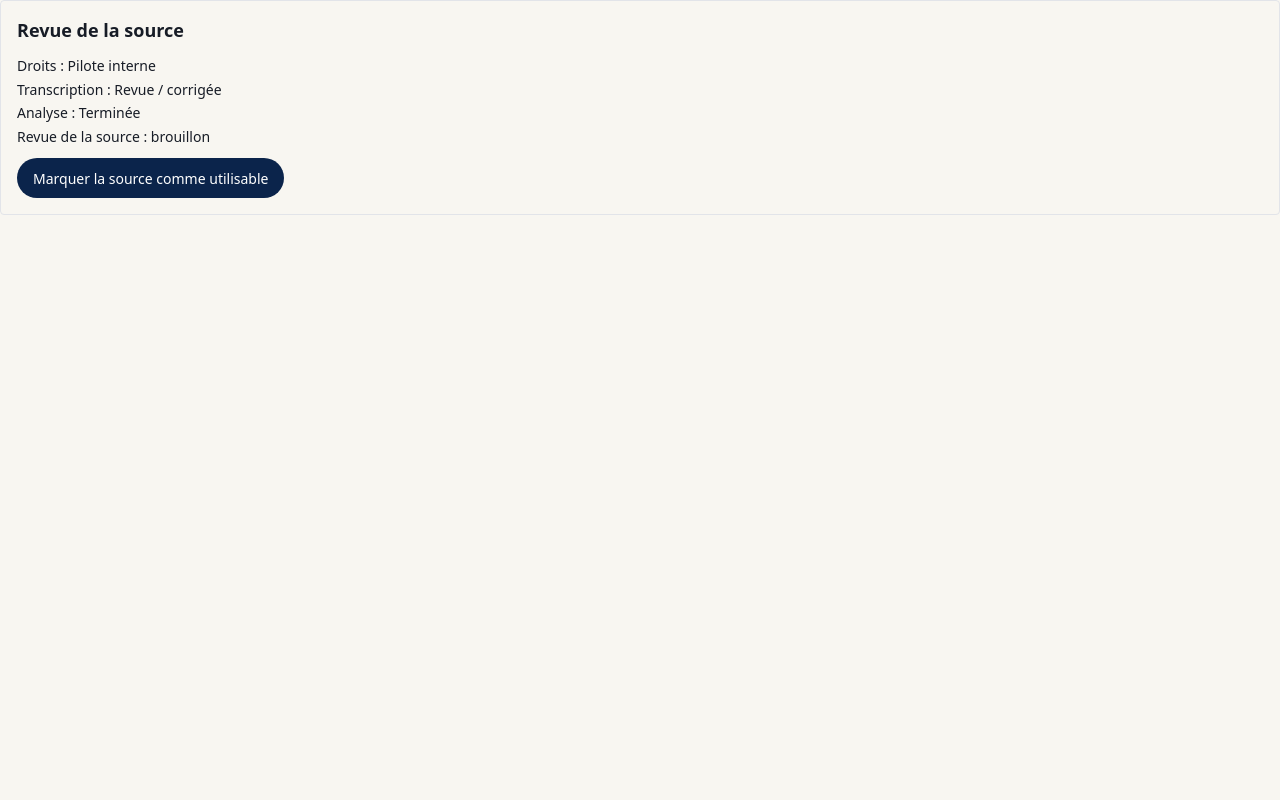
Scenario: explicit source review › displays server refusal SOURCE_HASH_REQUIRED
Click the button "Marquer la source comme utilisable" at (151, 178), box [17,158,284,198]
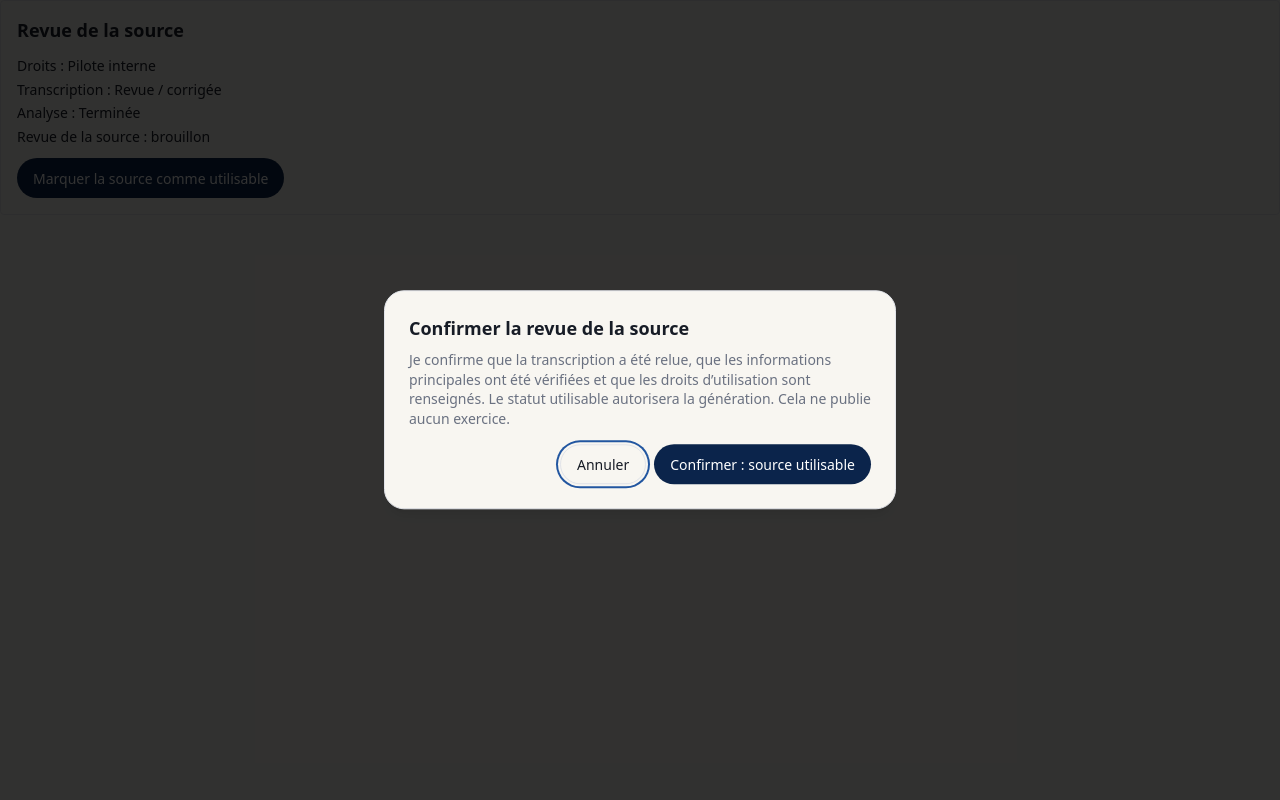
expect the button "Confirmer : source utilisable" is shown: met
Click the button "Confirmer : source utilisable" at (763, 465), box [654,445,871,485]
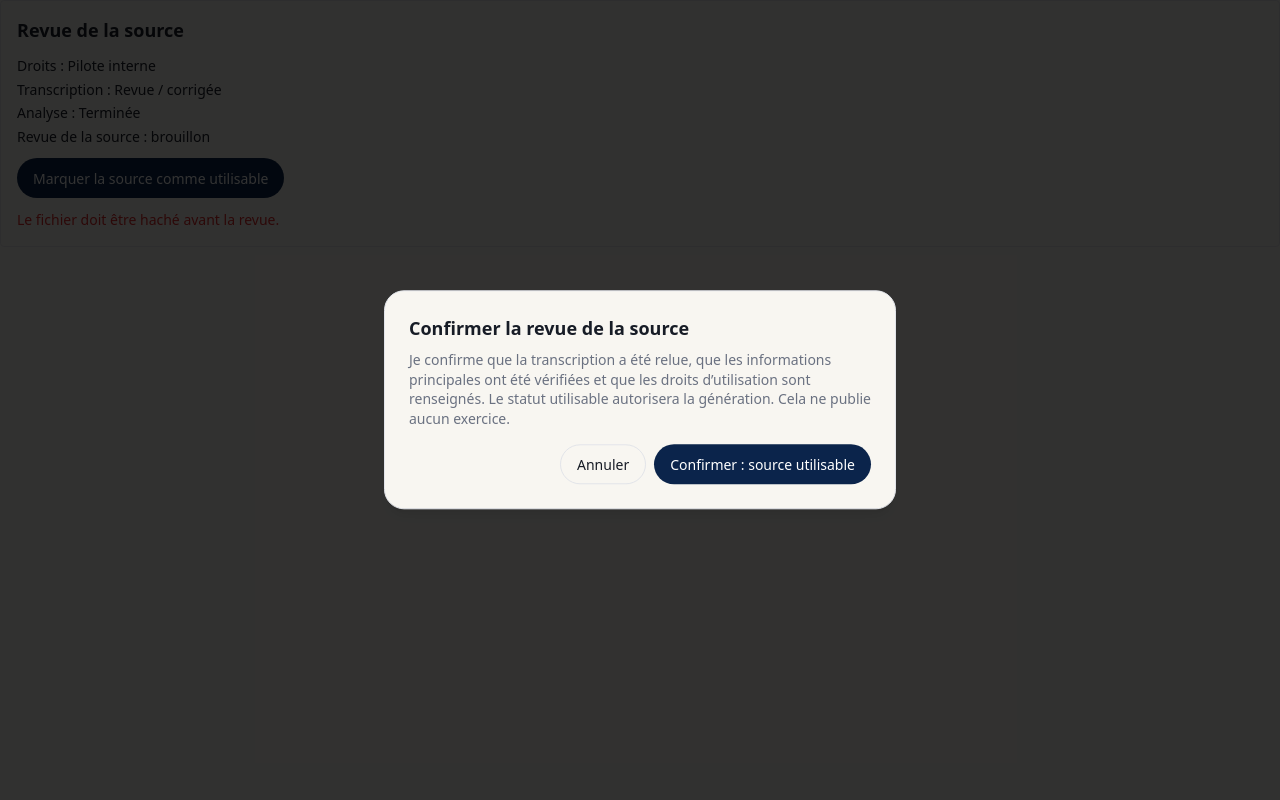
expect the message "Le fichier doit être haché avant la revue." is shown: met, box [17,210,279,229]
